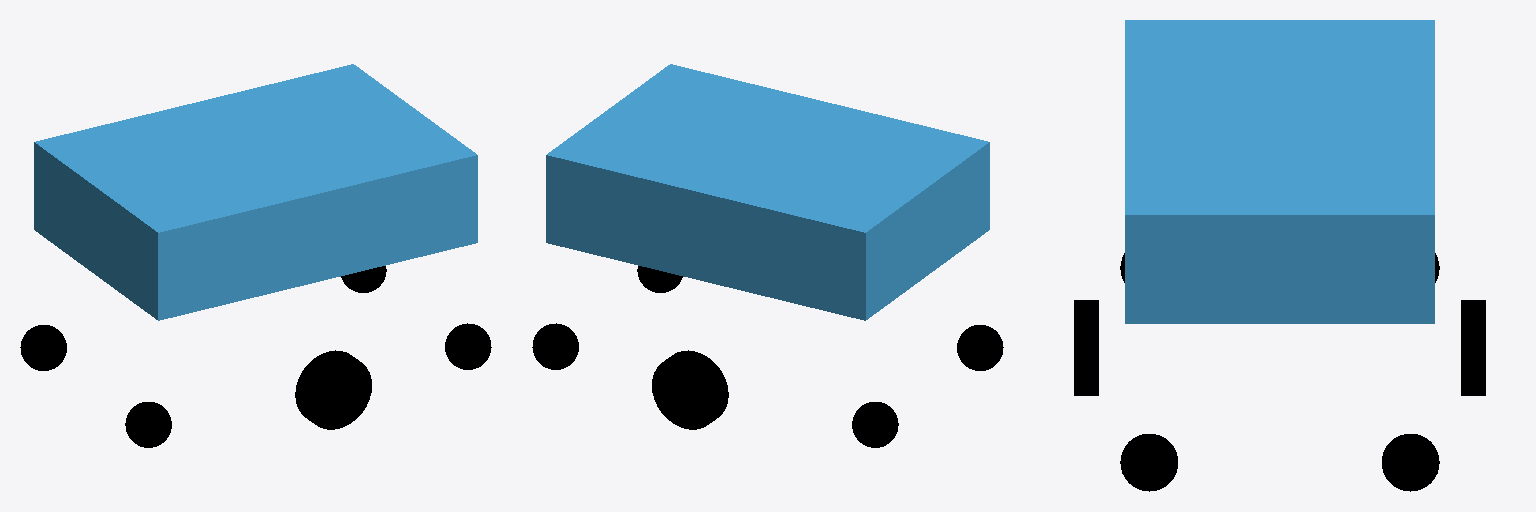
robot.urdf — new_bcr_robot:
<?xml version="1.0" ?>
<!-- =================================================================================== -->
<!-- |    This document was autogenerated by xacro from new_bcr_robot.xacro            | -->
<!-- |    EDITING THIS FILE BY HAND IS NOT RECOMMENDED                                 | -->
<!-- =================================================================================== -->
<robot name="new_bcr_robot">
  <!--................................ XACRO CONSTANTS .............................. -->
  <!-- ............................... LOAD MACROS ................................. -->
  <material name="black">
    <color rgba="0.0 0.0 0.0 1.0"/>
  </material>
  <material name="blue">
    <color rgba="0.0 0.0 0.8 1.0"/>
  </material>
  <material name="green">
    <color rgba="0.0 0.8 0.0 1.0"/>
  </material>
  <material name="yellow">
    <color rgba="1.0 1.0 0.0 1.0"/>
  </material>
  <material name="dark_grey">
    <color rgba="0.2 0.2 0.2 1.0"/>
  </material>
  <material name="orange">
    <color rgba="1.0 0.4235294117647059 0.0392156862745098 1.0"/>
  </material>
  <material name="brown">
    <color rgba="0.5450980392156862 0.27058823529411763 0.07450980392156863 1.0"/>
  </material>
  <material name="red">
    <color rgba="0.8 0.0 0.0 1.0"/>
  </material>
  <material name="turquoise">
    <color rgba="0.25098039215686274 0.8784313725490196 0.8156862745098039 1.0"/>
  </material>
  <material name="purple">
    <color rgba="0.5019607843137255 0.0 0.5019607843137255 1.0"/>
  </material>
  <material name="white">
    <color rgba="1.0 1.0 1.0 1.0"/>
  </material>
  <material name="aluminium">
    <color rgba="0.5 0.5 0.5 1"/>
  </material>
  <material name="plastic">
    <color rgba="0.1 0.1 0.1 1"/>
  </material>
  <!--................................ INERTIA MATRICES .............................. -->
  <!-- ............................... TROLLEY WHEEL DEFINITION .............................. -->
  <gazebo>
    <static>false</static>
  </gazebo>
  <gazebo reference="back_left_wheel_joint">
    <mu1 value="0.0"/>
    <mu2 value="0.0"/>
    <kp value="10000000.0"/>
    <kd value="1.0"/>
    <fdir1 value="1 0 0"/>
  </gazebo>
  <gazebo reference="back_right_wheel_joint">
    <mu1 value="0.0"/>
    <mu2 value="0.0"/>
    <kp value="10000000.0"/>
    <kd value="1.0"/>
    <fdir1 value="1 0 0"/>
  </gazebo>
  <gazebo reference="front_left_wheel_joint">
    <mu1 value="0.0"/>
    <mu2 value="0.0"/>
    <kp value="10000000.0"/>
    <kd value="1.0"/>
    <fdir1 value="1 0 0"/>
  </gazebo>
  <gazebo reference="front_right_wheel_joint">
    <mu1 value="0.0"/>
    <mu2 value="0.0"/>
    <kp value="10000000.0"/>
    <kd value="1.0"/>
    <fdir1 value="1 0 0"/>
  </gazebo>
  <gazebo reference="middle_left_wheel_joint">
    <mu1 value="5.0"/>
    <mu2 value="5.0"/>
    <kp value="10000000.0"/>
    <kd value="1.0"/>
    <fdir1 value="1 0 0"/>
  </gazebo>
  <gazebo reference="middle_right_wheel_joint">
    <mu1 value="5.0"/>
    <mu2 value="5.0"/>
    <kp value="10000000.0"/>
    <kd value="1.0"/>
    <fdir1 value="1 0 0"/>
  </gazebo>
  <!-- .....................MULTI WHEEL DIFF DRIVE ................................... -->
  <gazebo>
    <plugin filename="libgazebo_ros_diff_drive.so" name="diffdrive_plugin_multiwheel_middle">
      <robotNamespace/>
      <legacyMode>false</legacyMode>
      <updateRate>100.0</updateRate>
      <leftJoint>middle_left_wheel_joint</leftJoint>
      <rightJoint>middle_right_wheel_joint</rightJoint>
      <wheelSeparation>0.8</wheelSeparation>
      <wheelDiameter>0.2</wheelDiameter>
      <robotBaseFrame>base_link</robotBaseFrame>
      <wheelTorque>20000</wheelTorque>
      <commandTopic>/cmd_vel</commandTopic>
      <odometryTopic>odom</odometryTopic>
      <odometryFrame>odom</odometryFrame>
      <publishOdometryTf>true</publishOdometryTf>
      <publishOdometryMsg>true</publishOdometryMsg>
      <wheelAcceleration>5.0</wheelAcceleration>
    </plugin>
  </gazebo>
  <!--............................... IMU PLUGIN ..................................... -->
  <gazebo>
    <plugin filename="libgazebo_ros_imu.so" name="imu_plugin">
      <updateRate>50.0</updateRate>
      <bodyName>base_link</bodyName>
      <topicName>/imu</topicName>
      <serviceName>/imu/calibrate</serviceName>
      <accelOffset>0.0 0.0 0.0</accelOffset>
      <accelDrift>0.0 0.0 0.0</accelDrift>
      <accelDriftFrequency>0.0 0.0 0.0</accelDriftFrequency>
      <accelGaussianNoise>0.0 0.0 0.0</accelGaussianNoise>
      <rateOffset>0.0 0.0 0.0</rateOffset>
      <rateDrift>0.0 0.0 0.0</rateDrift>
      <rateDriftFrequency>0.0 0.0 0.0</rateDriftFrequency>
      <rateGaussianNoise>0.0 0.0 0.0</rateGaussianNoise>
      <headingOffset>0.0</headingOffset>
      <headingDrift>0.0</headingDrift>
      <headingDriftFrequency>0.0</headingDriftFrequency>
      <headingGaussianNoise>0.0</headingGaussianNoise>
      <rpyOffset>0.0 0.0 0.0</rpyOffset>
      <xyzOffset>0.0 0.0 0.0</xyzOffset>
      <gaussianNoise>0.0</gaussianNoise>
      <frameName>imu_frame</frameName>
    </plugin>
  </gazebo>
  <!-- ........................... 2D LIDAR PLUGIN ................................... -->
  <!--................................................................................. -->
  <!-- ................................ BASE LINK .................................. -->
  <link name="base_ref"/>
  <link name="base_link">
    <collision>
      <origin rpy="0 0 0" xyz="0 0 0.625"/>
      <geometry>
        <box size="0.95 0.64 0.25"/>
      </geometry>
    </collision>
    <visual>
      <origin rpy="0 0 0" xyz="0 0 0.5"/>
      <geometry>
        <box size="0.95 0.64 0.25"/>
      </geometry>
    </visual>
    <inertial>
      <mass value="7"/>
      <inertia ixx="0.27539166666666665" ixy="0" ixz="0" iyy="0.5629166666666666" iyz="0" izz="0.5629166666666666"/>
    </inertial>
  </link>
  <joint name="base_joint" type="fixed">
    <parent link="base_ref"/>
    <child link="base_link"/>
    <origin rpy="0 0 0.0" xyz="0.0 0 0.0"/>
  </joint>
  <!-- ................................ WHEELS ..................................... -->
  <link name="front_left_wheel">
    <collision>
      <origin rpy="0 1.5707963267948966 1.5707963267948966" xyz="0 0 0"/>
      <geometry>
        <sphere radius="0.06"/>
      </geometry>
    </collision>
    <visual>
      <origin rpy="0 1.5707963267948966 1.5707963267948966" xyz="0 0 0"/>
      <geometry>
        <sphere radius="0.06"/>
      </geometry>
      <material name="black"/>
    </visual>
    <inertial>
      <origin rpy="0 0 0" xyz="0 0 0"/>
      <mass value="0.1"/>
      <inertia ixx="0.00014399999999999998" ixy="0" ixz="0" iyy="0.00014399999999999998" iyz="0" izz="0.00014399999999999998"/>
    </inertial>
    <mu>0.0</mu>
  </link>
  <joint name="front_left_wheel_joint" type="fixed">
    <parent link="base_link"/>
    <child link="front_left_wheel"/>
    <origin rpy="0 0 0" xyz="0.475 0.27 0.06"/>
    <axis rpy="0 0 0" xyz="0 1 0"/>
  </joint>
  <gazebo reference="front_left_wheel">
    <material>Gazebo/Black</material>
  </gazebo>
  <link name="front_right_wheel">
    <collision>
      <origin rpy="0 1.5707963267948966 1.5707963267948966" xyz="0 0 0"/>
      <geometry>
        <sphere radius="0.06"/>
      </geometry>
    </collision>
    <visual>
      <origin rpy="0 1.5707963267948966 1.5707963267948966" xyz="0 0 0"/>
      <geometry>
        <sphere radius="0.06"/>
      </geometry>
      <material name="black"/>
    </visual>
    <inertial>
      <origin rpy="0 0 0" xyz="0 0 0"/>
      <mass value="0.1"/>
      <inertia ixx="0.00014399999999999998" ixy="0" ixz="0" iyy="0.00014399999999999998" iyz="0" izz="0.00014399999999999998"/>
    </inertial>
    <mu>0.0</mu>
  </link>
  <joint name="front_right_wheel_joint" type="fixed">
    <parent link="base_link"/>
    <child link="front_right_wheel"/>
    <origin rpy="0 0 0" xyz="0.475 -0.27 0.06"/>
    <axis rpy="0 0 0" xyz="0 1 0"/>
  </joint>
  <gazebo reference="front_right_wheel">
    <material>Gazebo/Black</material>
  </gazebo>
  <link name="back_left_wheel">
    <collision>
      <origin rpy="0 1.5707963267948966 1.5707963267948966" xyz="0 0 0"/>
      <geometry>
        <sphere radius="0.06"/>
      </geometry>
    </collision>
    <visual>
      <origin rpy="0 1.5707963267948966 1.5707963267948966" xyz="0 0 0"/>
      <geometry>
        <sphere radius="0.06"/>
      </geometry>
      <material name="black"/>
    </visual>
    <inertial>
      <origin rpy="0 0 0" xyz="0 0 0"/>
      <mass value="0.1"/>
      <inertia ixx="0.00014399999999999998" ixy="0" ixz="0" iyy="0.00014399999999999998" iyz="0" izz="0.00014399999999999998"/>
    </inertial>
    <mu>0.0</mu>
  </link>
  <joint name="back_left_wheel_joint" type="fixed">
    <parent link="base_link"/>
    <child link="back_left_wheel"/>
    <origin rpy="0 0 0" xyz="-0.475 0.27 0.06"/>
    <axis rpy="0 0 0" xyz="0 1 0"/>
  </joint>
  <gazebo reference="back_left_wheel">
    <material>Gazebo/Black</material>
  </gazebo>
  <link name="back_right_wheel">
    <collision>
      <origin rpy="0 1.5707963267948966 1.5707963267948966" xyz="0 0 0"/>
      <geometry>
        <sphere radius="0.06"/>
      </geometry>
    </collision>
    <visual>
      <origin rpy="0 1.5707963267948966 1.5707963267948966" xyz="0 0 0"/>
      <geometry>
        <sphere radius="0.06"/>
      </geometry>
      <material name="black"/>
    </visual>
    <inertial>
      <origin rpy="0 0 0" xyz="0 0 0"/>
      <mass value="0.1"/>
      <inertia ixx="0.00014399999999999998" ixy="0" ixz="0" iyy="0.00014399999999999998" iyz="0" izz="0.00014399999999999998"/>
    </inertial>
    <mu>0.0</mu>
  </link>
  <joint name="back_right_wheel_joint" type="fixed">
    <parent link="base_link"/>
    <child link="back_right_wheel"/>
    <origin rpy="0 0 0" xyz="-0.475 -0.27 0.06"/>
    <axis rpy="0 0 0" xyz="0 1 0"/>
  </joint>
  <gazebo reference="back_right_wheel">
    <material>Gazebo/Black</material>
  </gazebo>
  <link name="middle_left_wheel">
    <collision>
      <origin rpy="0 1.5707963267948966 1.5707963267948966" xyz="0 0 0"/>
      <geometry>
        <cylinder length="0.05" radius="0.1"/>
      </geometry>
    </collision>
    <visual>
      <origin rpy="0 1.5707963267948966 1.5707963267948966" xyz="0 0 0"/>
      <geometry>
        <cylinder length="0.05" radius="0.1"/>
      </geometry>
      <material name="black"/>
    </visual>
    <inertial>
      <origin rpy="0 1.5707963267948966 1.5707963267948966" xyz="0 0 0"/>
      <mass value="1"/>
      <inertia ixx="0.002708333333333334" ixy="0" ixz="0" iyy="0.002708333333333334" iyz="0" izz="0.005000000000000001"/>
    </inertial>
    <mu>5.0</mu>
  </link>
  <joint name="middle_left_wheel_joint" type="continuous">
    <parent link="base_link"/>
    <child link="middle_left_wheel"/>
    <origin rpy="0 0 0" xyz="0 0.4 0.1"/>
    <axis rpy="0 0 0" xyz="0 1 0"/>
  </joint>
  <gazebo reference="middle_left_wheel">
    <material>Gazebo/Black</material>
  </gazebo>
  <link name="middle_right_wheel">
    <collision>
      <origin rpy="0 1.5707963267948966 1.5707963267948966" xyz="0 0 0"/>
      <geometry>
        <cylinder length="0.05" radius="0.1"/>
      </geometry>
    </collision>
    <visual>
      <origin rpy="0 1.5707963267948966 1.5707963267948966" xyz="0 0 0"/>
      <geometry>
        <cylinder length="0.05" radius="0.1"/>
      </geometry>
      <material name="black"/>
    </visual>
    <inertial>
      <origin rpy="0 1.5707963267948966 1.5707963267948966" xyz="0 0 0"/>
      <mass value="1"/>
      <inertia ixx="0.002708333333333334" ixy="0" ixz="0" iyy="0.002708333333333334" iyz="0" izz="0.005000000000000001"/>
    </inertial>
    <mu>5.0</mu>
  </link>
  <joint name="middle_right_wheel_joint" type="continuous">
    <parent link="base_link"/>
    <child link="middle_right_wheel"/>
    <origin rpy="0 0 0" xyz="0 -0.4 0.1"/>
    <axis rpy="0 0 0" xyz="0 1 0"/>
  </joint>
  <gazebo reference="middle_right_wheel">
    <material>Gazebo/Black</material>
  </gazebo>
  <!-- ............................. 2D LIDAR ........................................ -->
</robot>

--- Facts derived from the render (not from the file) ---
The picture shows the robot from 3 angles, left to right: view 1: azimuth 30°, elevation 25°; view 2: azimuth 150°, elevation 25°; view 3: azimuth 270°, elevation 25°; orthographic projection.
Robot: new_bcr_robot — 8 links, 7 joints (2 continuous, 5 fixed); root link base_ref; default pose: all joints at 0.
Visible links, largest first — view 1: base_link, middle_right_wheel, front_right_wheel, back_right_wheel, back_left_wheel, front_left_wheel; view 2: base_link, middle_left_wheel, front_left_wheel, back_left_wheel, back_right_wheel, front_right_wheel; view 3: base_link, front_left_wheel, front_right_wheel, middle_left_wheel, middle_right_wheel.
Boxes of the visible links, box(x1,y1,x2,y2) form: base_link: box(34, 64, 477, 320); middle_right_wheel: box(295, 350, 371, 429); front_right_wheel: box(445, 323, 491, 369); back_right_wheel: box(125, 402, 171, 447); back_left_wheel: box(20, 325, 66, 370); front_left_wheel: box(341, 266, 386, 292); base_link: box(546, 64, 989, 320); middle_left_wheel: box(652, 350, 728, 429); front_left_wheel: box(532, 323, 578, 369); back_left_wheel: box(852, 402, 898, 447); back_right_wheel: box(957, 325, 1003, 370); front_right_wheel: box(637, 266, 682, 292); base_link: box(1125, 20, 1434, 323); front_left_wheel: box(1382, 434, 1439, 491); front_right_wheel: box(1120, 434, 1177, 491); middle_left_wheel: box(1461, 300, 1485, 395); middle_right_wheel: box(1074, 300, 1098, 395).
Bounding box of the posed robot: 1.07 × 0.85 × 0.625 m (x, y, z).
Geometry: primitives only (box / cylinder / sphere), no mesh files.